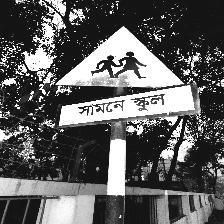School-in-front: (53, 27, 197, 128)
